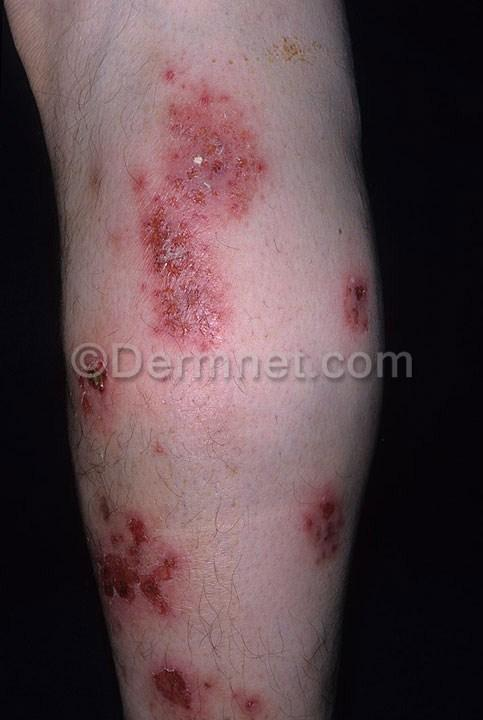Eczema: (76, 29, 292, 339), (86, 478, 215, 620), (117, 638, 275, 720), (60, 320, 155, 450), (302, 221, 385, 350), (292, 458, 363, 585)
